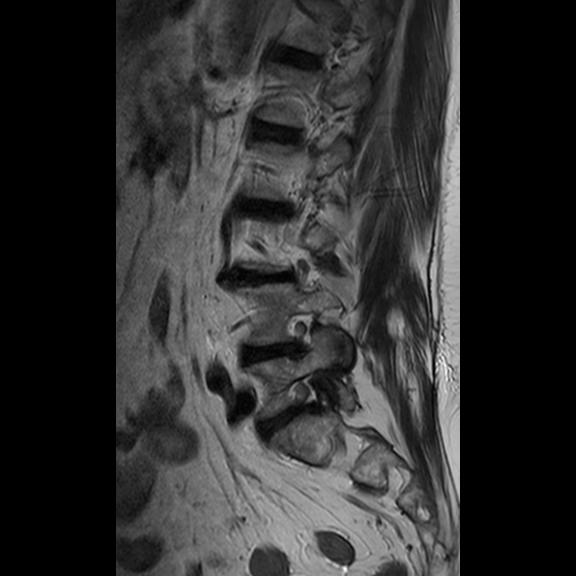LFS0: (273, 368, 327, 431), (272, 303, 323, 363)
